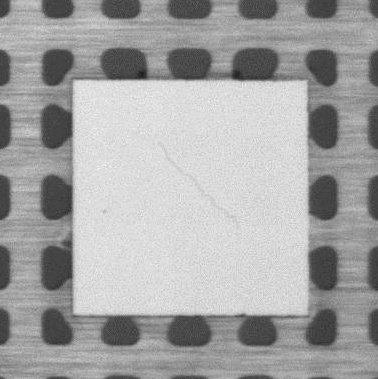DIE_INK: (100, 205, 109, 218)
